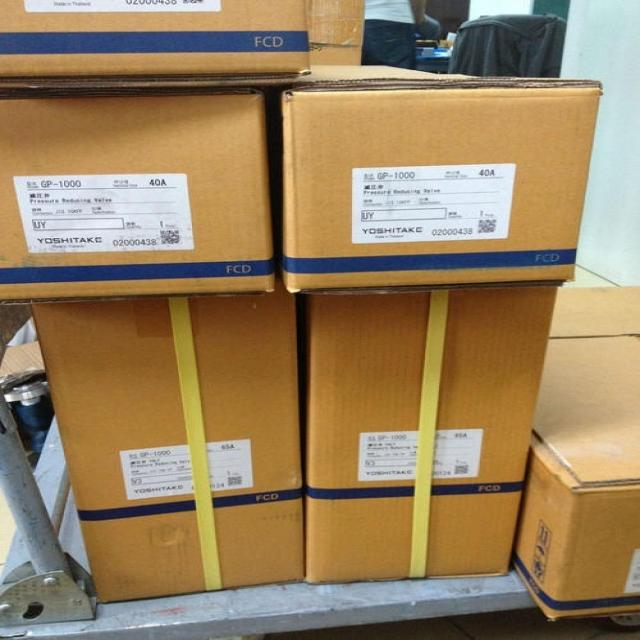box: (32, 296, 305, 604), (296, 283, 561, 583), (273, 62, 598, 294), (1, 92, 287, 307), (515, 285, 640, 619), (0, 0, 311, 93), (308, 2, 367, 66)
